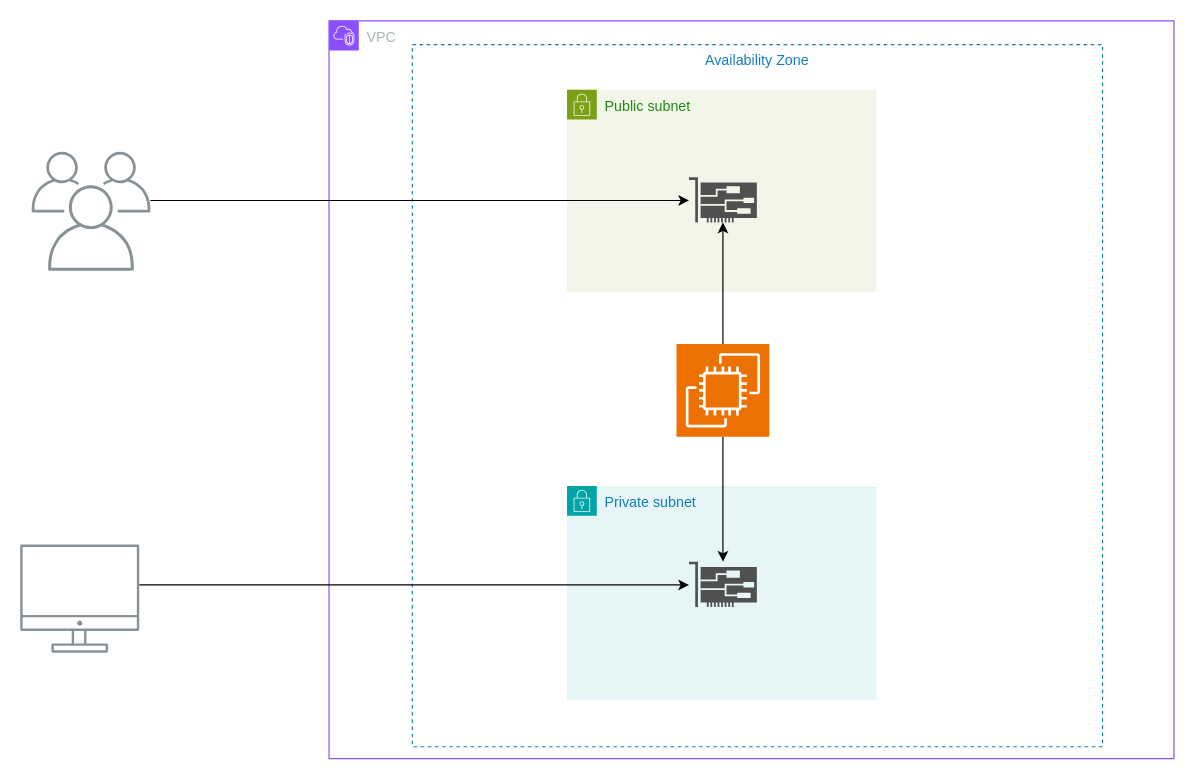
The diagram is 1195 pixels wide and 779 high, and some of its shapes have lost their labels. The shapes that lost their labels are listed below. From the top down, each one's centre as x and y in pixels, then its label:
point 90,210: users
point 79,598: Admin
